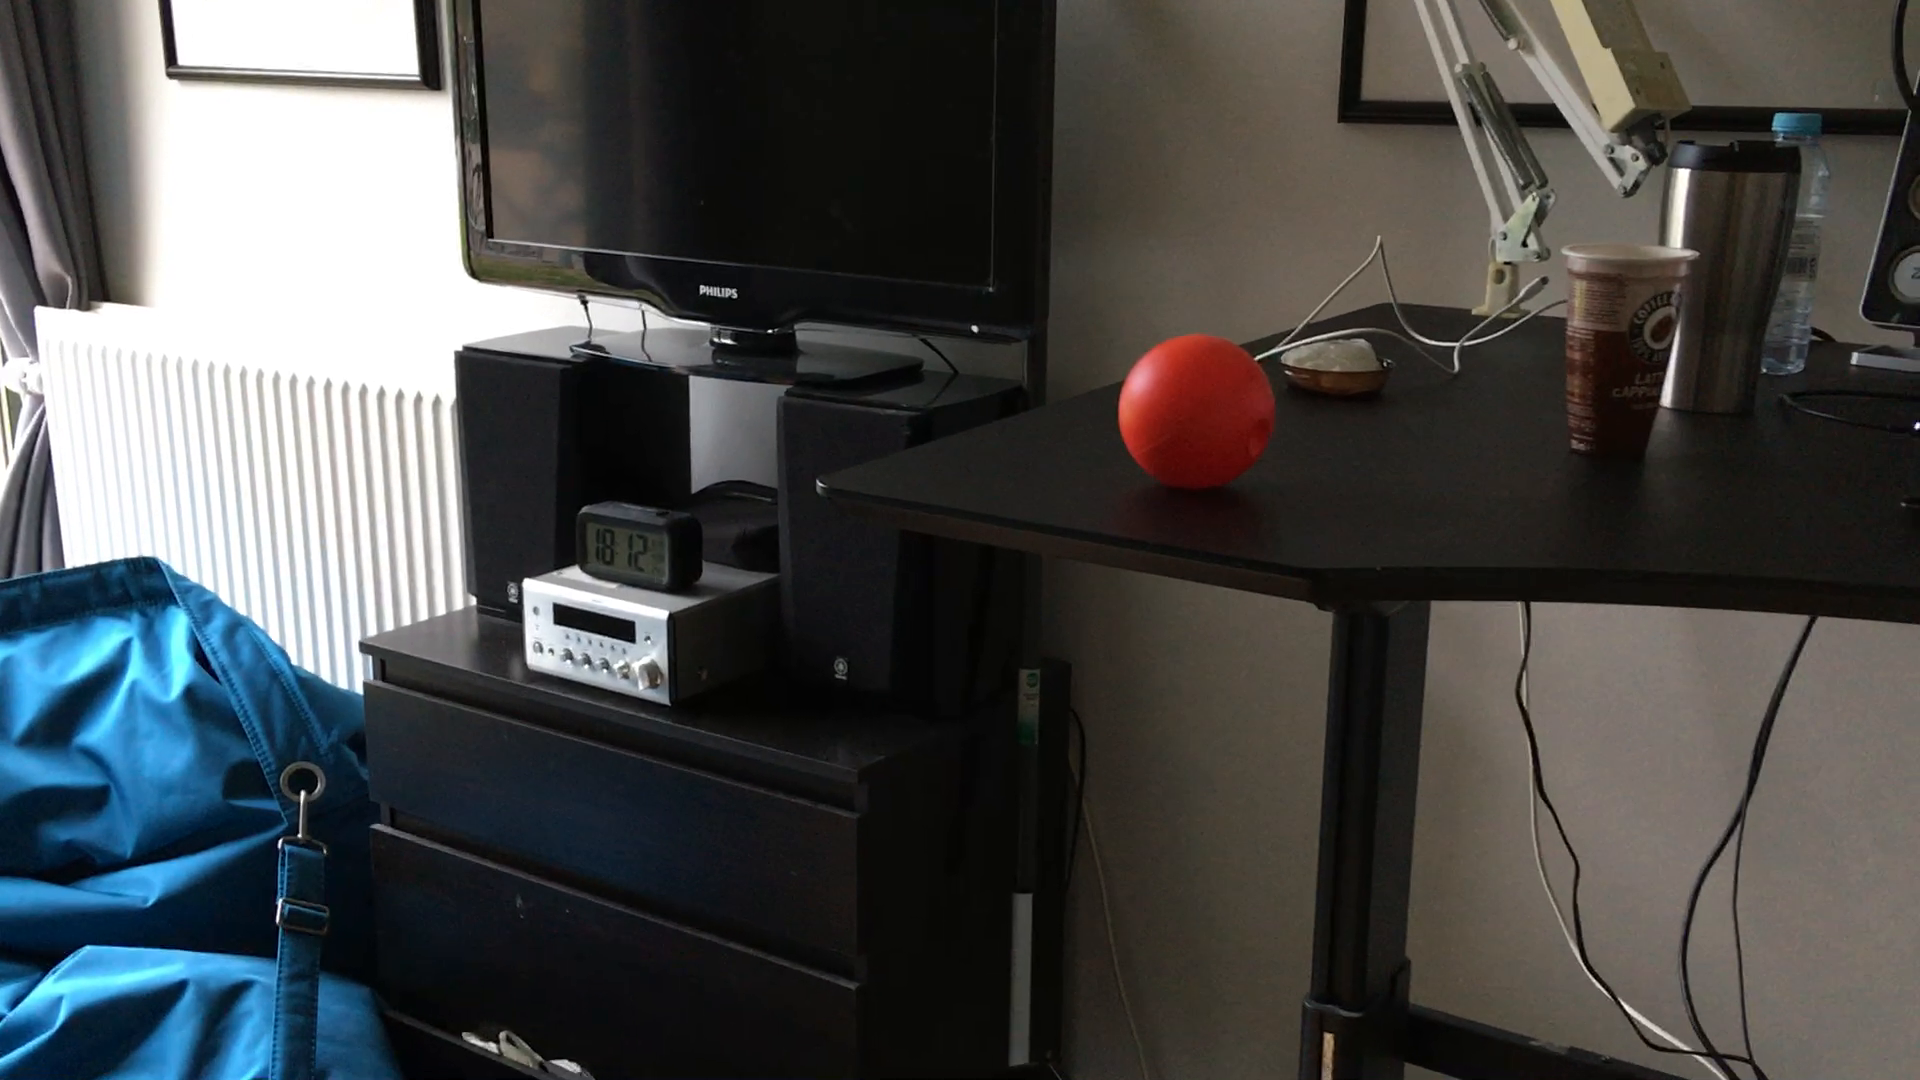Ball: (1113, 334, 1280, 488)
